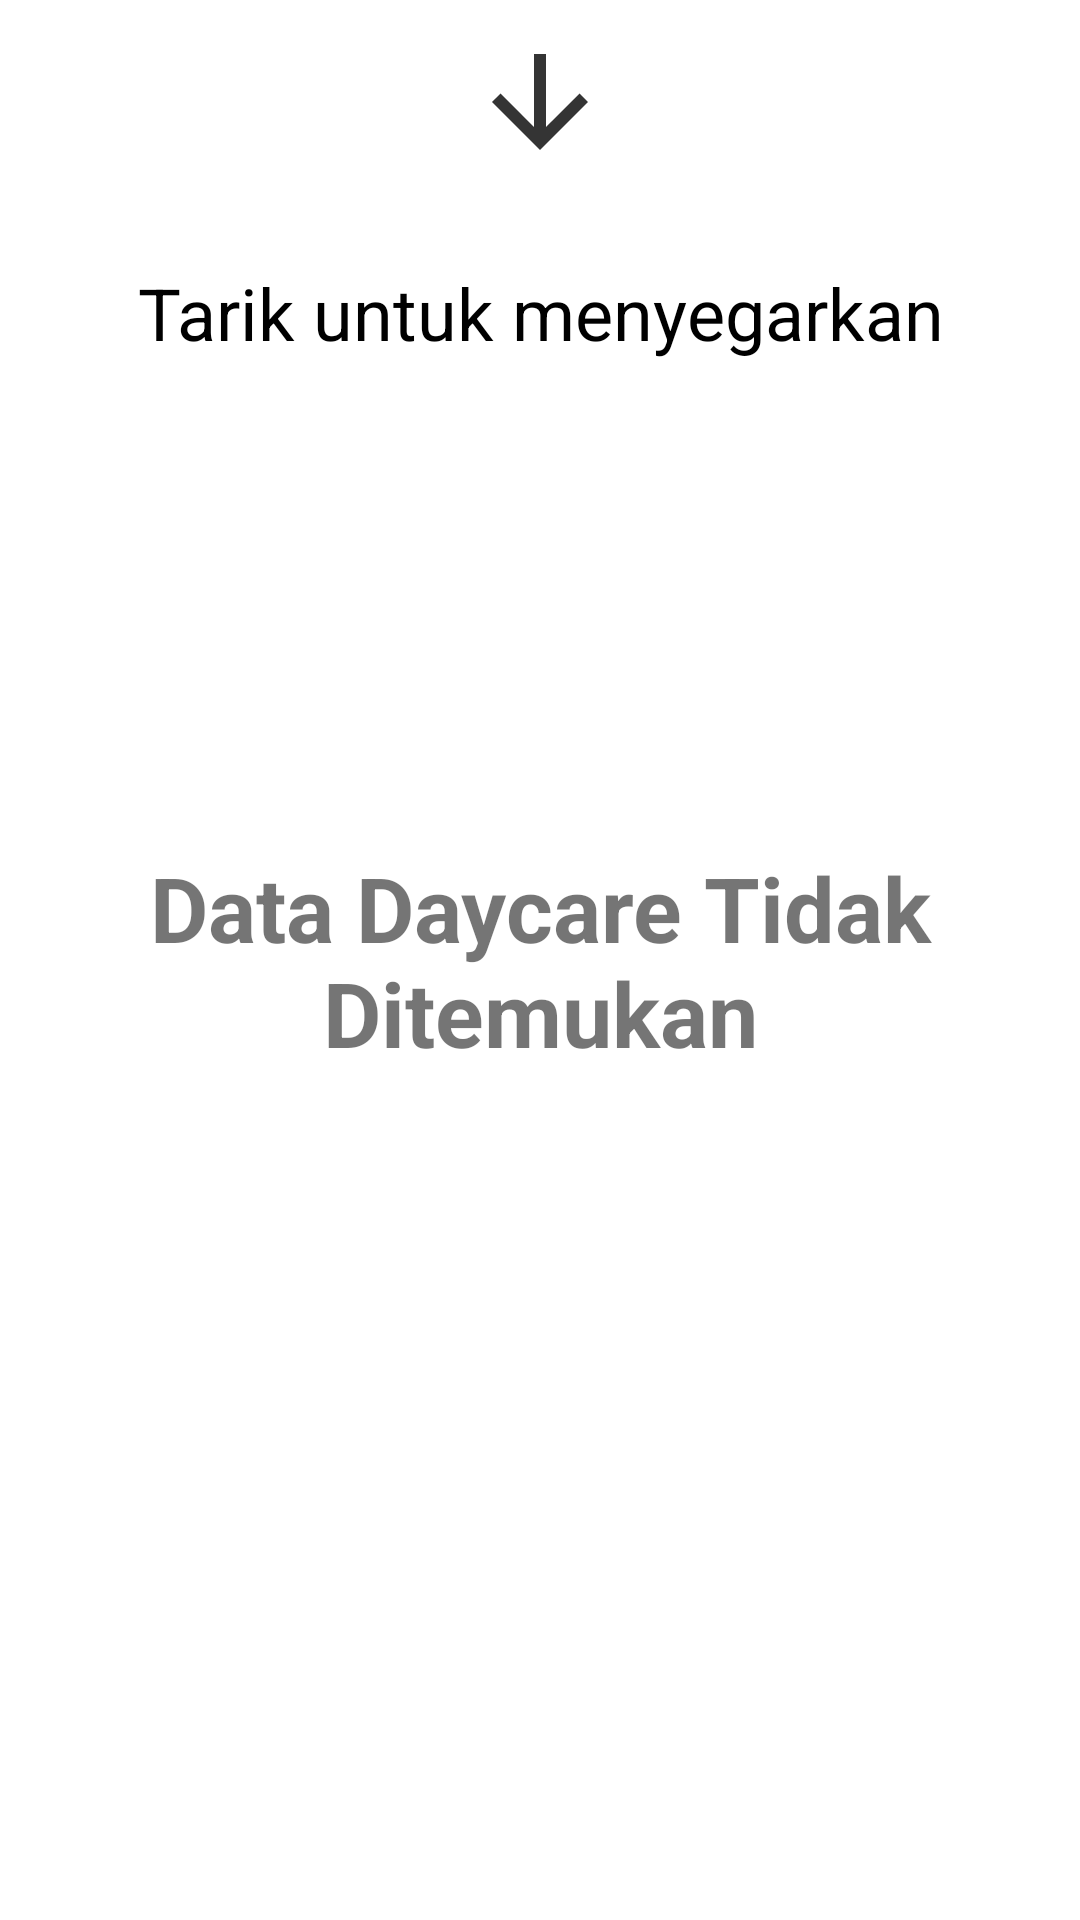

Named icons in this screenshot (1080x1920) and their bounding boxes, detection(x1, y1, x2, y2):
arrow downward: detection(492, 54, 588, 150)
